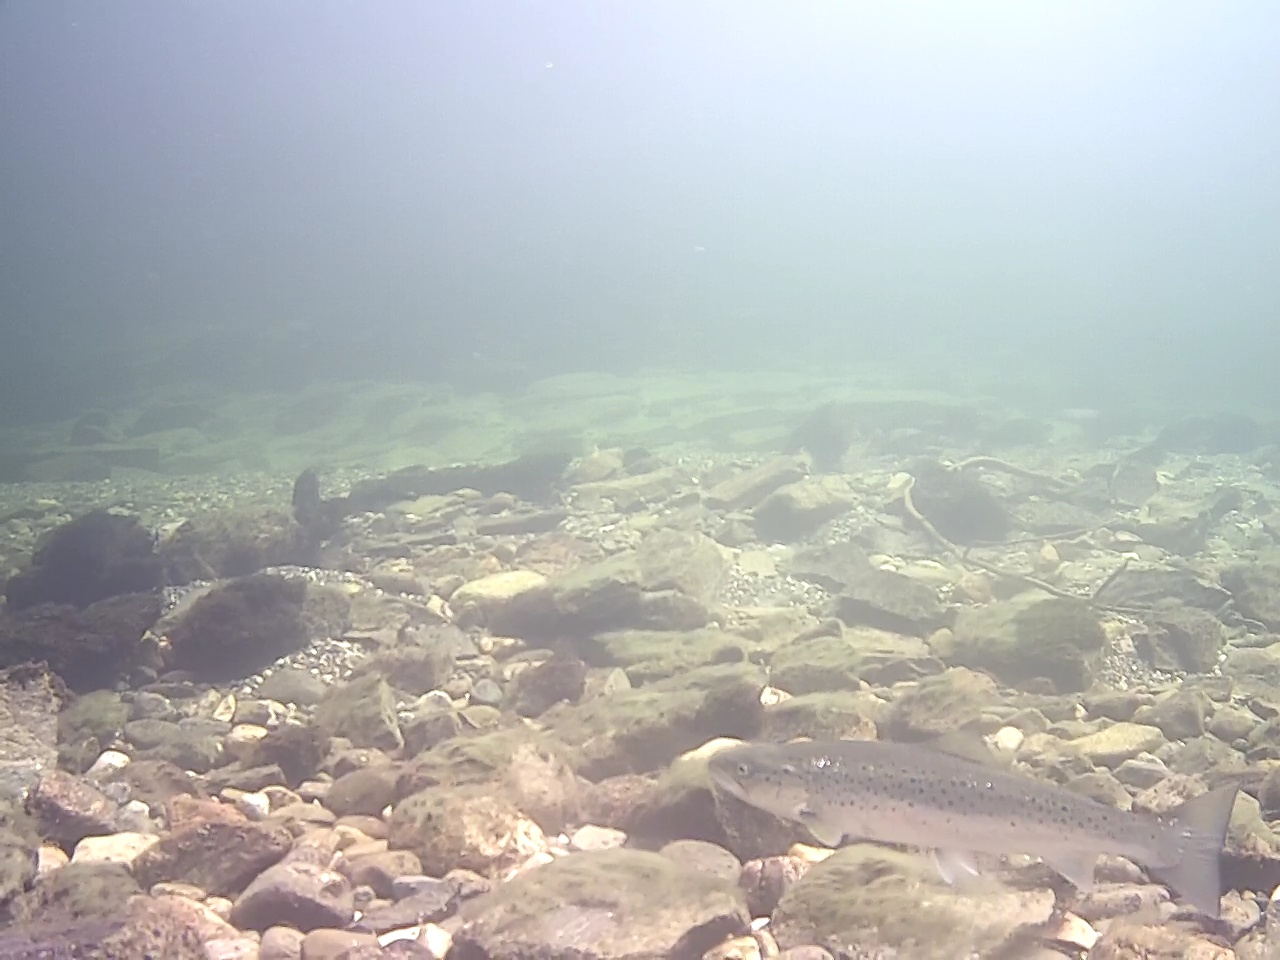salmon: (705, 729, 1240, 920)
